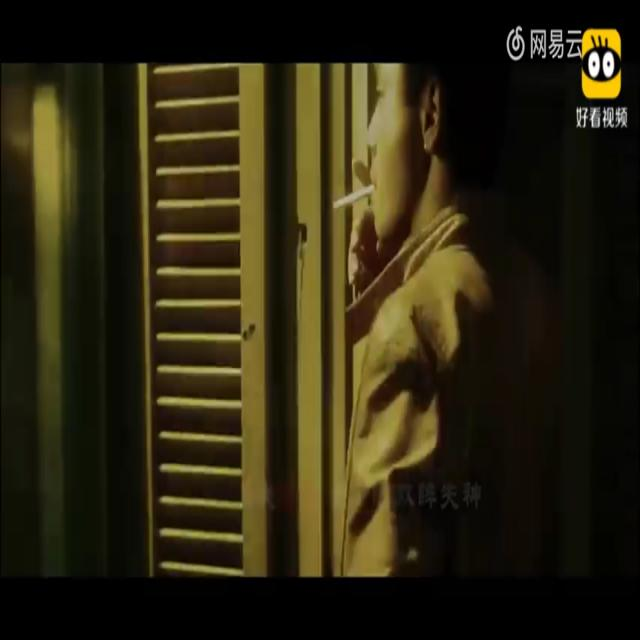cigarette: (330, 184, 377, 213)
